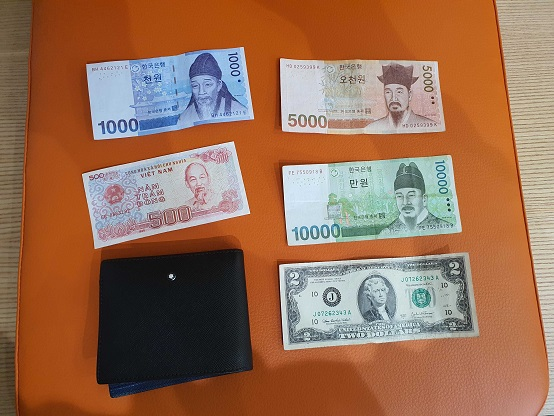10000won: (282, 154, 462, 245)
1000won: (85, 47, 255, 139)
2dollar: (282, 252, 478, 350)
5000won: (278, 56, 446, 136)
500vnd: (80, 141, 250, 247)
